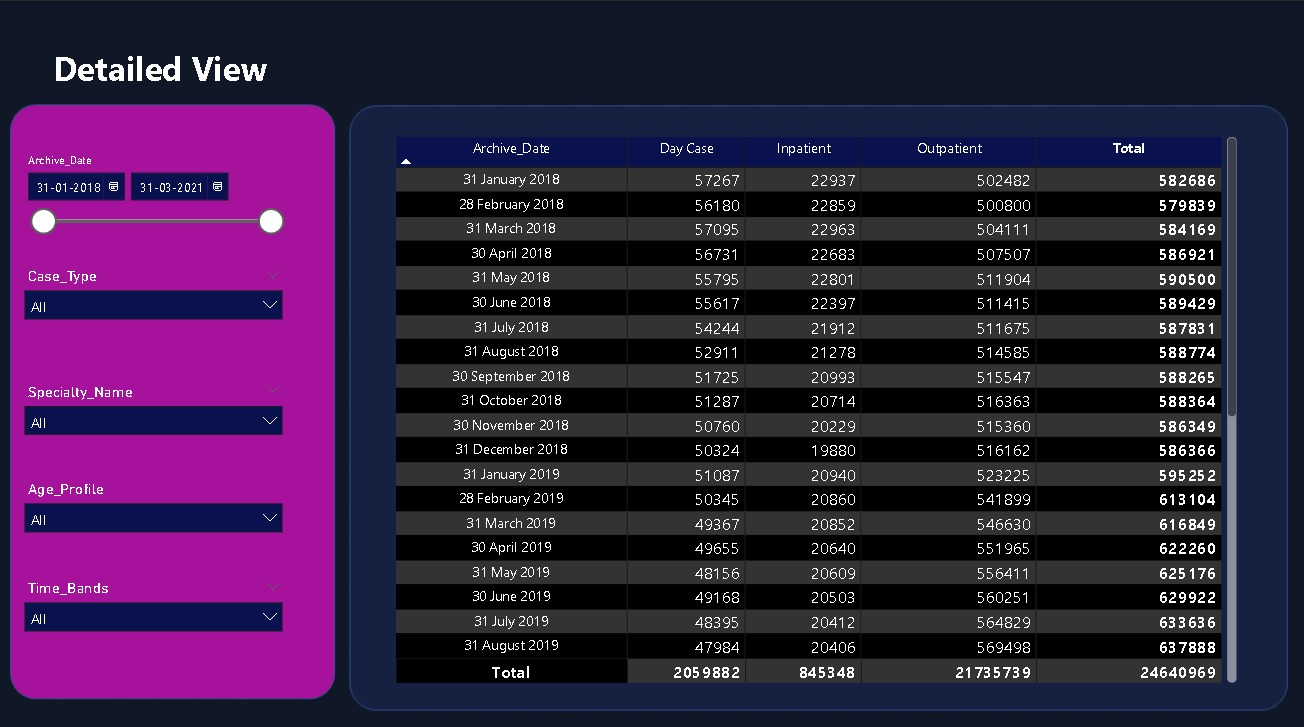

This screenshot's page, from the dashboard's own definition file:
{"tool":"powerbi","page":{"name":"Detailed_Page","canvas":[1280,720],"ordinal":1},"visuals":[{"type":"textbox","box":[16,0,320,80],"z":0},{"type":"slicer","fields":{"Values":["All_Data.Archive_Date"]},"box":[16,144,272,96],"z":1000},{"type":"slicer","fields":{"Values":["All_Data.Case_Type"]},"box":[16,256,272,80],"z":2000},{"type":"slicer","fields":{"Values":["All_Data.Specialty_Name"]},"box":[16,368,272,80],"z":3000},{"type":"slicer","fields":{"Values":["All_Data.Age_Profile"]},"box":[16,464,272,80],"z":4000},{"type":"slicer","fields":{"Values":["All_Data.Time_Bands"]},"box":[16,560,272,80],"z":5000},{"type":"pivotTable","fields":{"Columns":["All_Data.Case_Type"],"Rows":["All_Data.Archive_Date","All_Data.Specialty_Name","All_Data.Age_Profile","All_Data.Time_Bands"],"Values":["Sum(All_Data.Total)"]},"box":[384,128,832,544],"z":6001}]}

Visuals, with their boxes in screenshot pixels (x1, y1, x2, y2), scaled from the page's 1280x720 canvas onto the 1304x727 screenshot:
textbox: x1=16 y1=0 x2=342 y2=81
slicer - All_Data.Archive_Date: x1=16 y1=145 x2=293 y2=242
slicer - All_Data.Case_Type: x1=16 y1=258 x2=293 y2=339
slicer - All_Data.Specialty_Name: x1=16 y1=372 x2=293 y2=452
slicer - All_Data.Age_Profile: x1=16 y1=469 x2=293 y2=549
slicer - All_Data.Time_Bands: x1=16 y1=565 x2=293 y2=646
pivotTable - All_Data.Case_Type x All_Data.Archive_Date: x1=391 y1=129 x2=1239 y2=679
